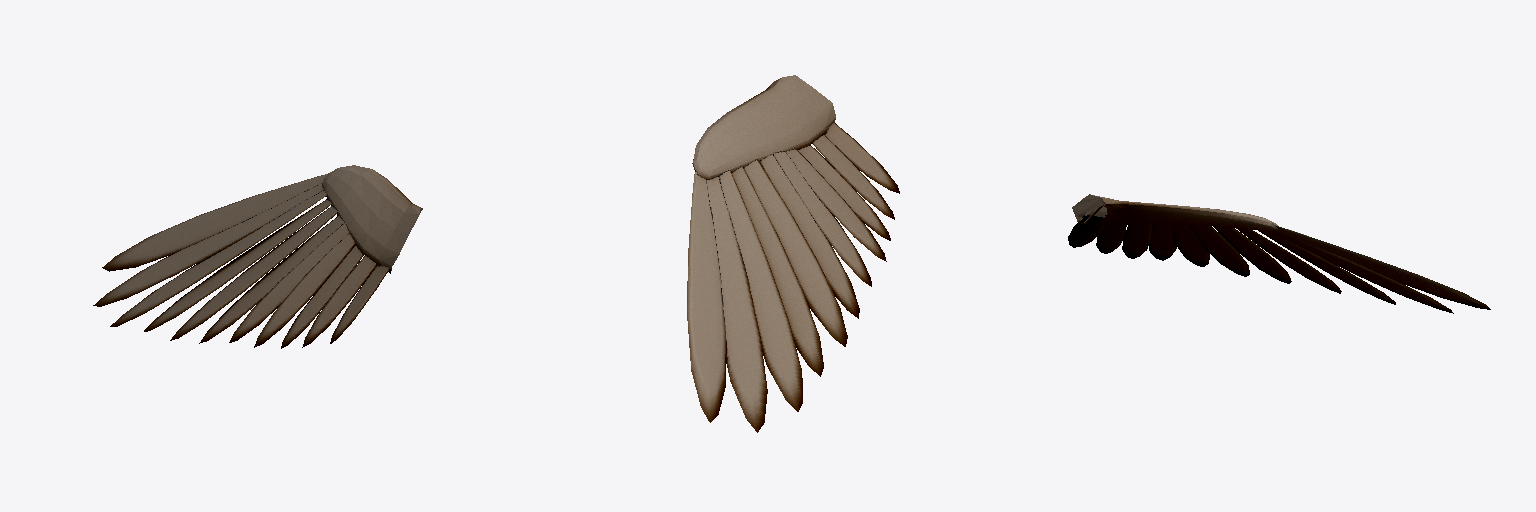
3 views of the same model, side by side, from view 1: azimuth 30°, elevation 25°; view 2: azimuth 150°, elevation 25°; view 3: azimuth 270°, elevation 25° (orthographic).
Parts seen in each view (by area): view 1: Cube.001_Cube.001; view 2: Cube.001_Cube.001; view 3: Cube.001_Cube.001.
Boxes of the visible parts, box(x1,y1,x2,y2) form: Cube.001_Cube.001: box(93, 165, 422, 348); Cube.001_Cube.001: box(687, 75, 899, 432); Cube.001_Cube.001: box(1068, 194, 1490, 313).
Size of the model in its own units: 3.73 by 3.83 by 7.75.
Materials: 1 (1 with a texture image).